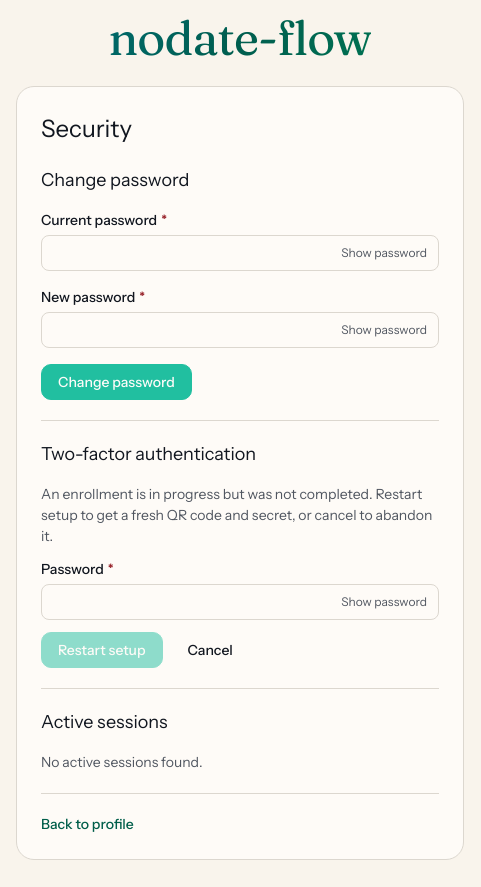
SecurityPage — cancel pending TOTP enrollment error path › keeps the UI in its pending state and toasts when the cancel is rejected
Expected: the button "Restart setup" is shown, top-left (41, 632), bottom-right (162, 668)
Type "hunter2" into the password field labelled "Password*" at (240, 602), box top-left (41, 584), bottom-right (439, 620)
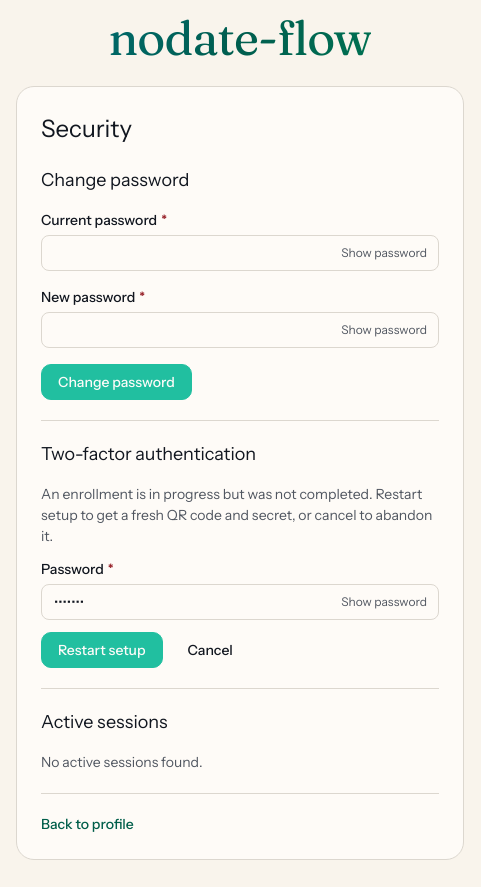
Click the button "Cancel" at (210, 650), box top-left (170, 632), bottom-right (250, 668)
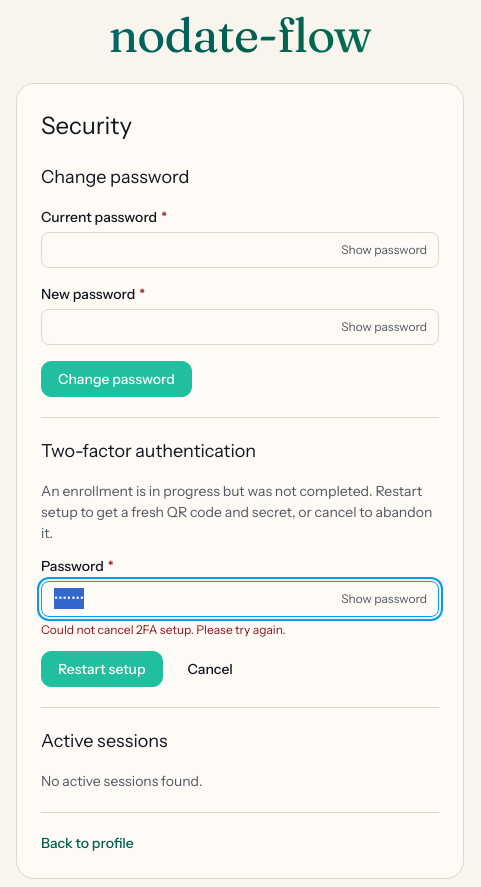
Expected: the button "Restart setup" is shown, top-left (41, 651), bottom-right (162, 687)
Expected: the text "Could not cancel 2FA setup. Please try again." is shown, top-left (41, 622), bottom-right (286, 637)
